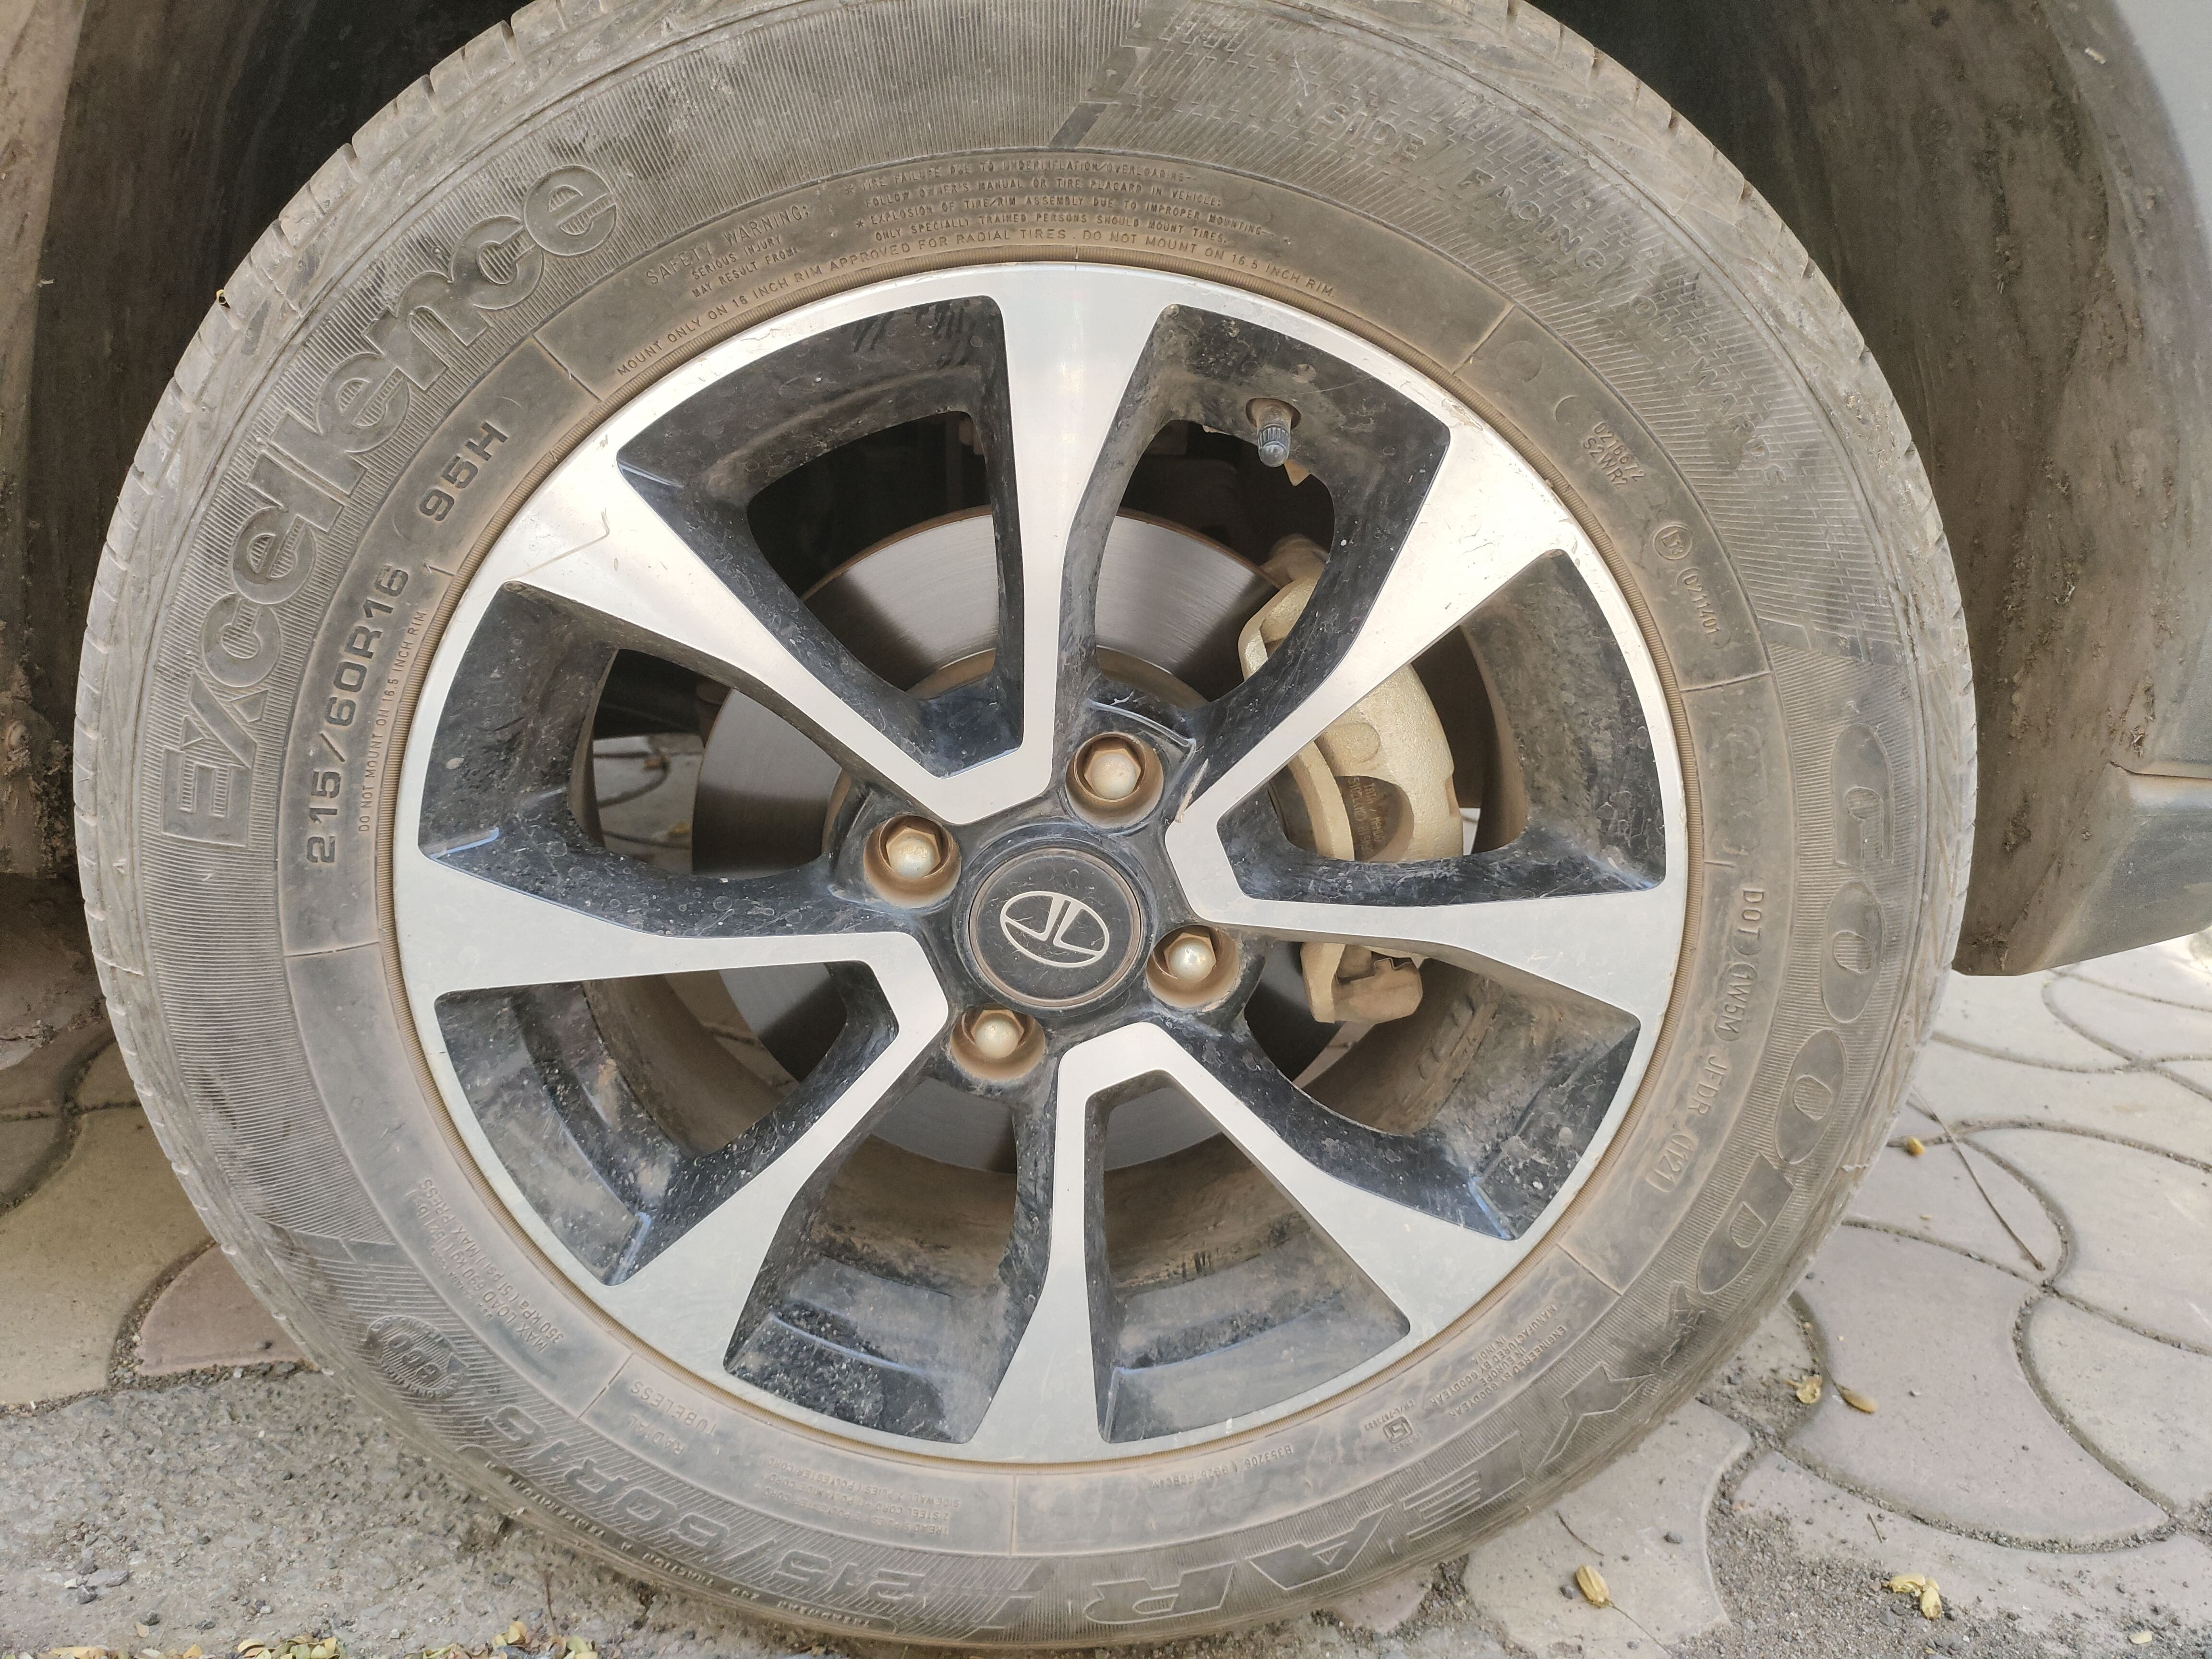l: (1055, 709, 1183, 833), (907, 985, 1042, 1098), (864, 795, 975, 908), (1134, 911, 1247, 1014)
